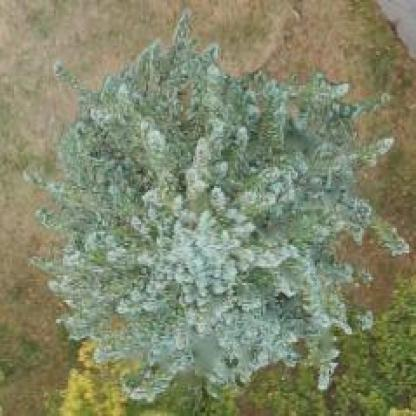Coniferous Tree: (26, 26, 385, 400)
